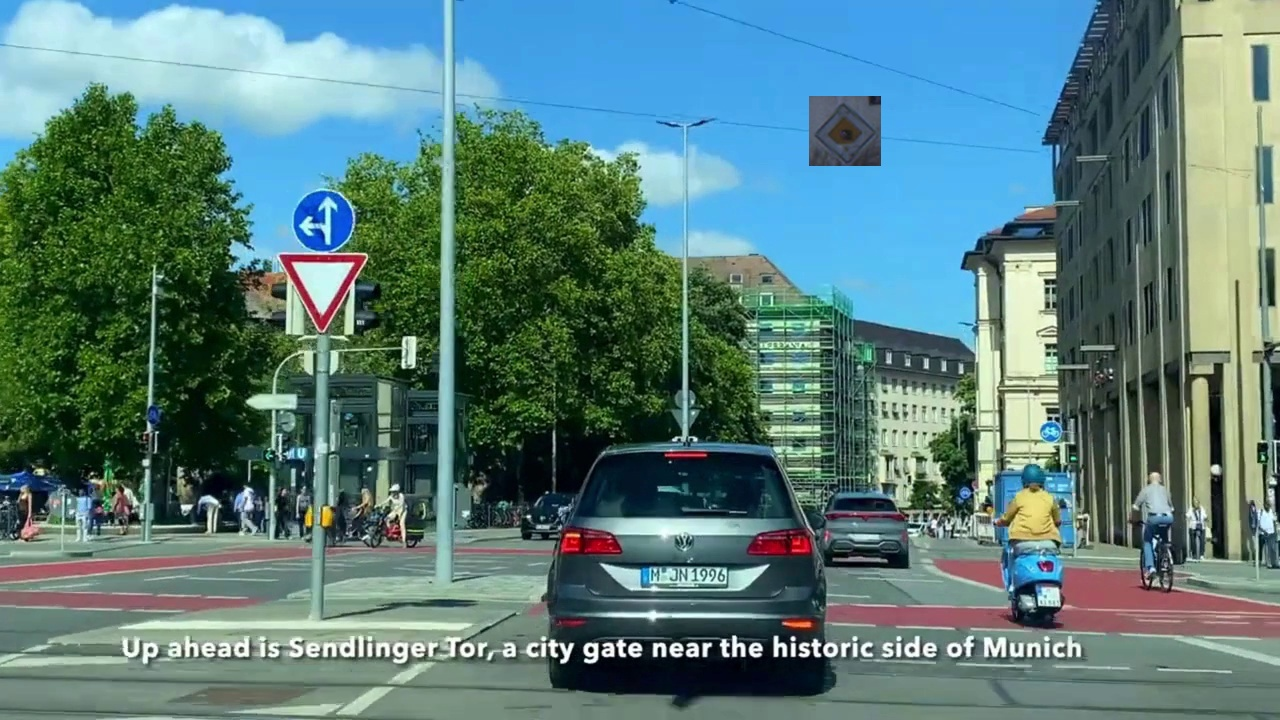Priority road: (809, 96, 881, 166)
